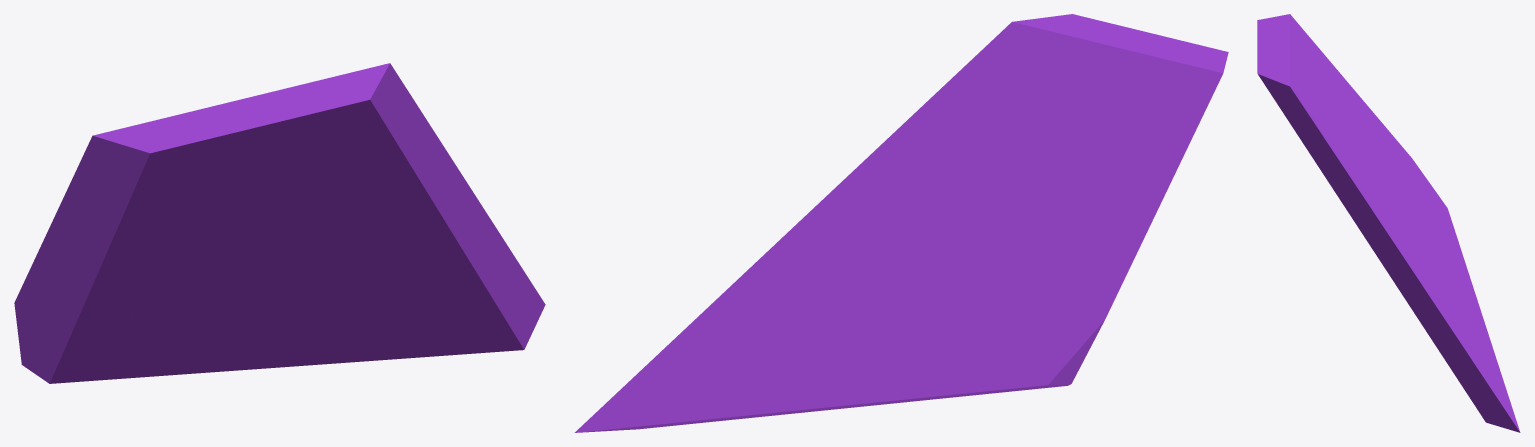
Rendered from Window_112_3_chunks.fbx.
3 renders of one model, left to right at view 1: azimuth 30°, elevation 25°; view 2: azimuth 150°, elevation 25°; view 3: azimuth 270°, elevation 25°, orthographic. The views are drawn at different scales.
Parts seen in each view (by area): view 1: Window_112_3_0, Window_112_3_9, Window_112_3_4, Window_112_3_6, Window_112_3_8, Window_112_3_2, Window_112_3_7, Window_112_3_3, Window_112_3_1; view 2: Window_112_3_9, Window_112_3_1, Window_112_3_0, Window_112_3_6, Window_112_3_4, Window_112_3_3, Window_112_3_2, Window_112_3_8, Window_112_3_5; view 3: Window_112_3_9, Window_112_3_1, Window_112_3_8, Window_112_3_0, Window_112_3_6, Window_112_3_4, Window_112_3_3, Window_112_3_2, Window_112_3_5.
Part boxes in pixels (bbox=[...]): Window_112_3_0: bbox=[21, 81, 381, 336]; Window_112_3_9: bbox=[308, 167, 545, 359]; Window_112_3_4: bbox=[155, 280, 395, 369]; Window_112_3_6: bbox=[234, 63, 396, 283]; Window_112_3_8: bbox=[374, 73, 456, 233]; Window_112_3_2: bbox=[14, 289, 196, 383]; Window_112_3_7: bbox=[242, 219, 413, 315]; Window_112_3_3: bbox=[51, 342, 251, 383]; Window_112_3_1: bbox=[220, 66, 377, 104]; Window_112_3_9: bbox=[574, 199, 927, 432]; Window_112_3_1: bbox=[984, 18, 1134, 288]; Window_112_3_0: bbox=[1042, 14, 1228, 298]; Window_112_3_6: bbox=[893, 18, 1042, 285]; Window_112_3_4: bbox=[712, 251, 1006, 418]; Window_112_3_3: bbox=[830, 338, 1070, 406]; Window_112_3_2: bbox=[1022, 264, 1114, 385]; Window_112_3_8: bbox=[824, 40, 992, 202]; Window_112_3_5: bbox=[972, 259, 1030, 347]; Window_112_3_9: bbox=[1375, 207, 1520, 432]; Window_112_3_1: bbox=[1274, 45, 1399, 185]; Window_112_3_8: bbox=[1291, 101, 1389, 252]; Window_112_3_0: bbox=[1257, 14, 1401, 150]; Window_112_3_6: bbox=[1273, 80, 1416, 223]; Window_112_3_4: bbox=[1395, 179, 1499, 367]; Window_112_3_3: bbox=[1433, 198, 1480, 310]; Window_112_3_2: bbox=[1397, 147, 1439, 201]; Window_112_3_5: bbox=[1396, 174, 1434, 222].
Size of the model in its own units: 846 by 604 by 564.
